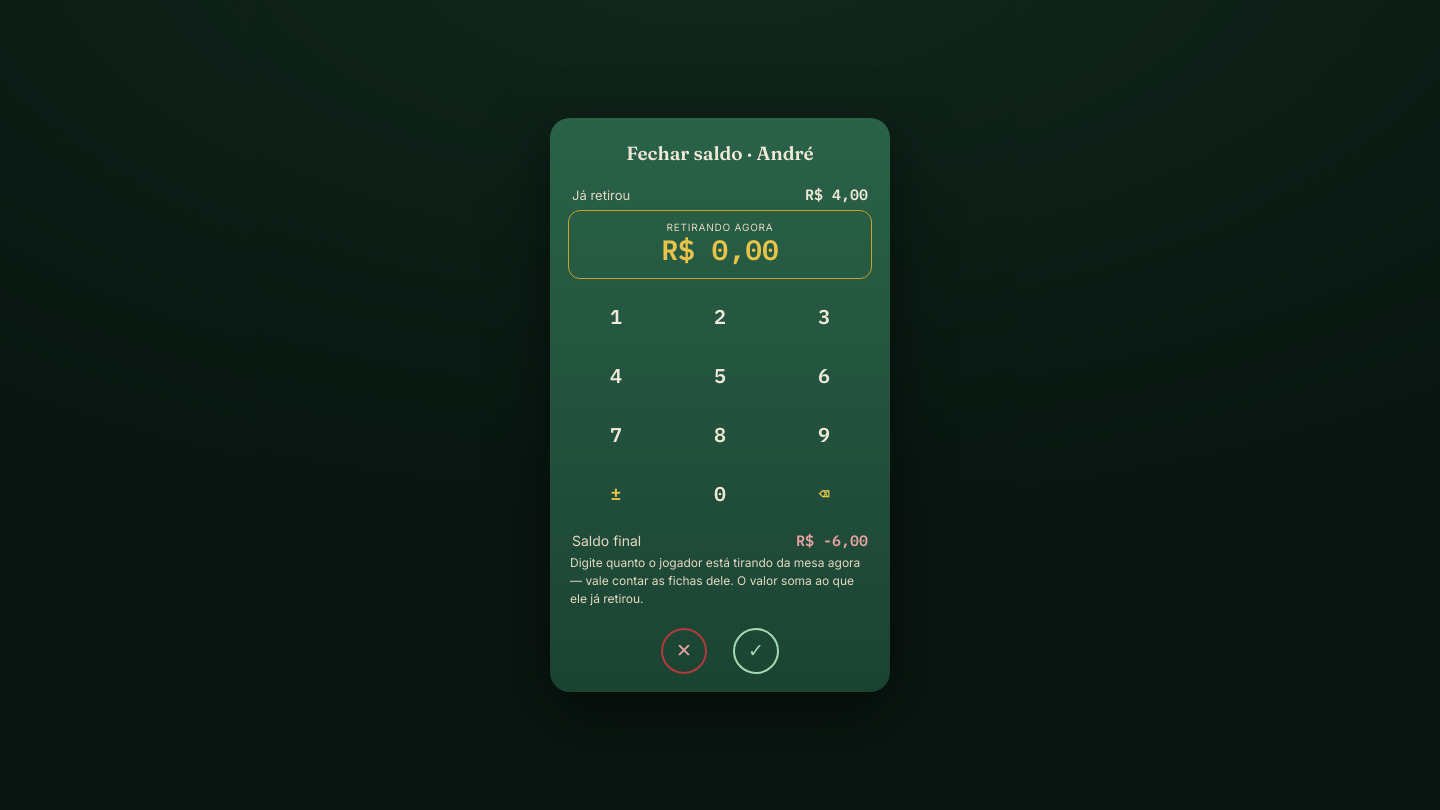
AdjustModal › mostra o saldo final somando ao que já foi retirado
This screenshot has width=1440, height=810.
Click the button "1".
click(616, 316)  # box [568, 291, 664, 342]
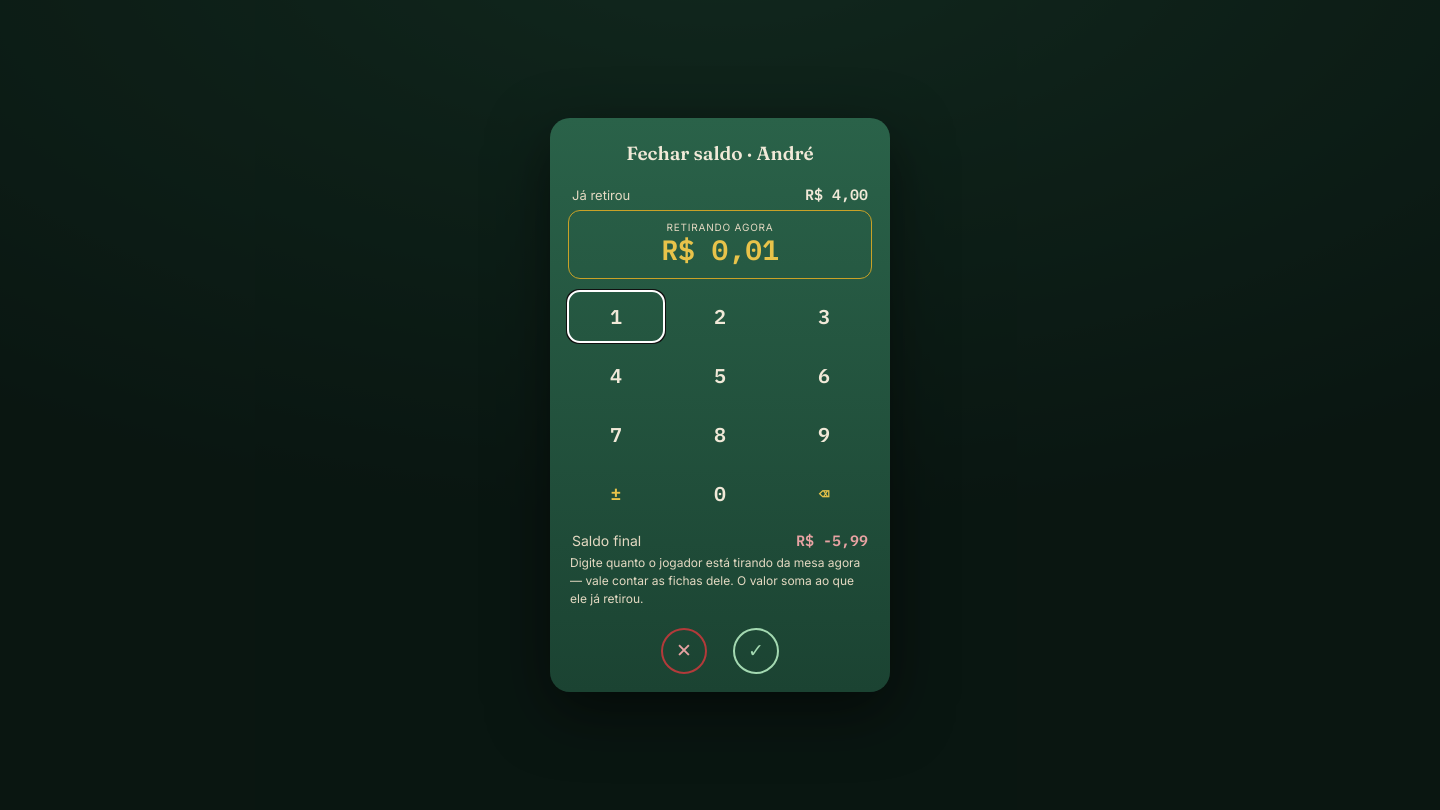
Click the button "0".
click(720, 493)  # box [672, 468, 768, 519]
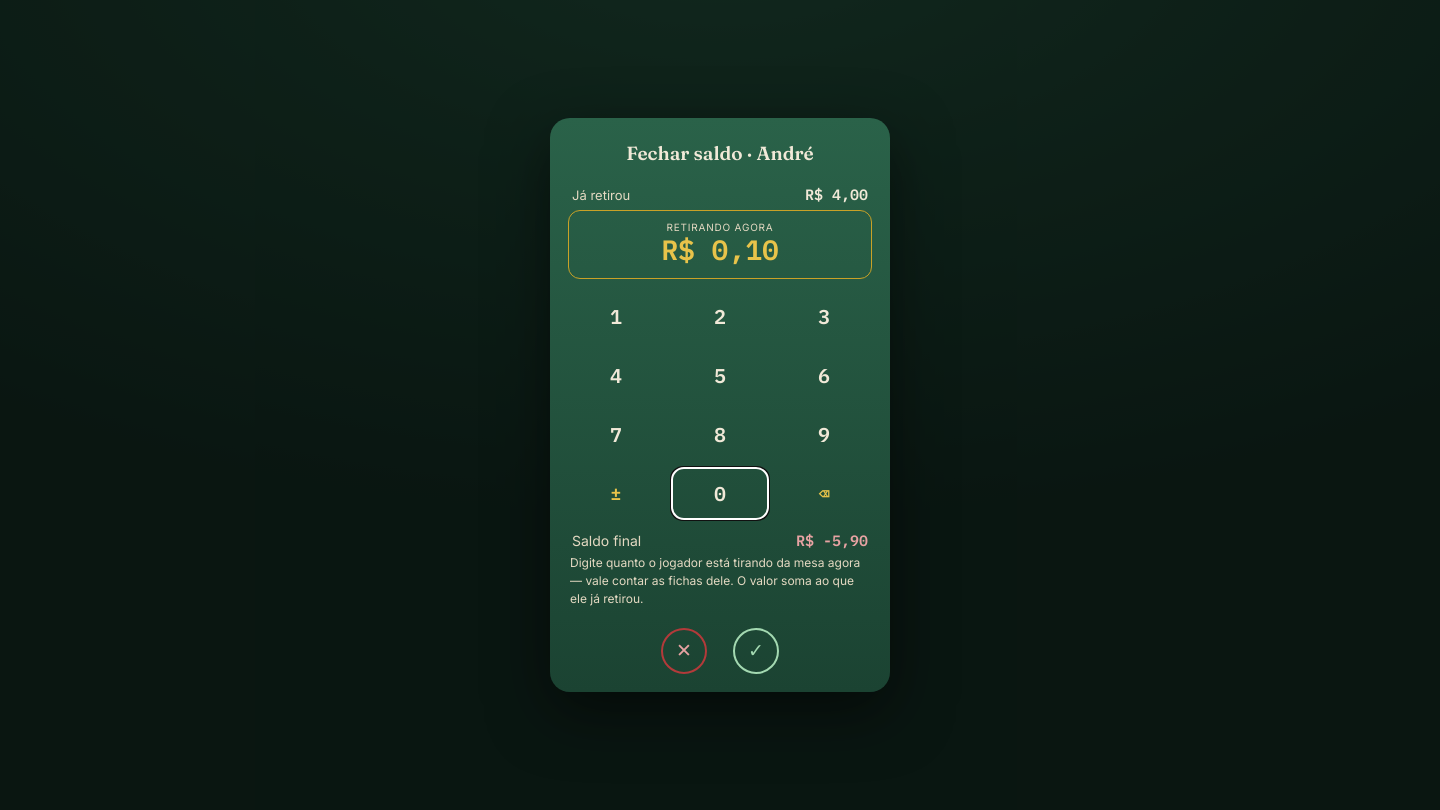
Click the button "0".
click(720, 493)  # box [672, 468, 768, 519]
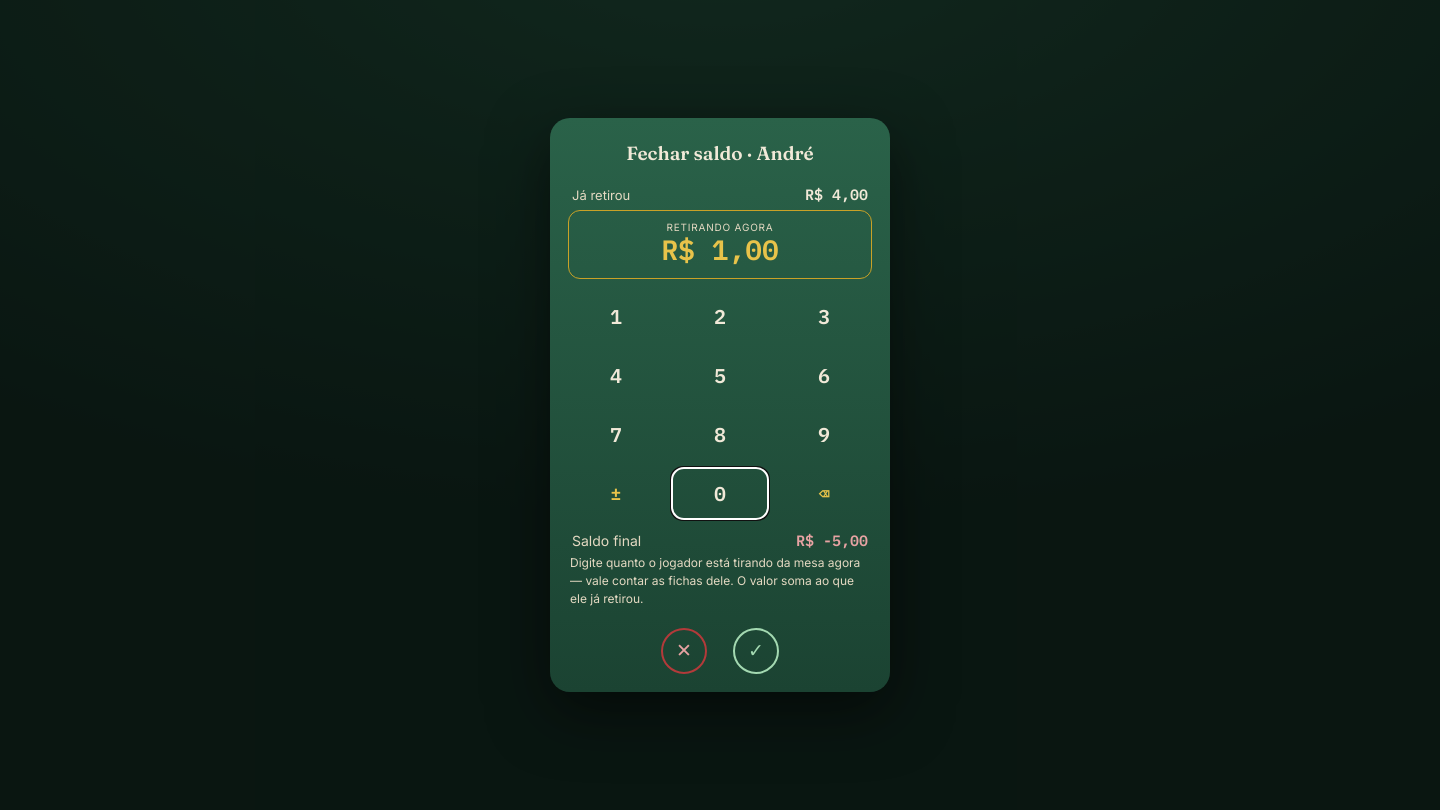
Check: the text with class "adjust-line-value" reads "R$ -5,00", box [796, 531, 868, 550]
